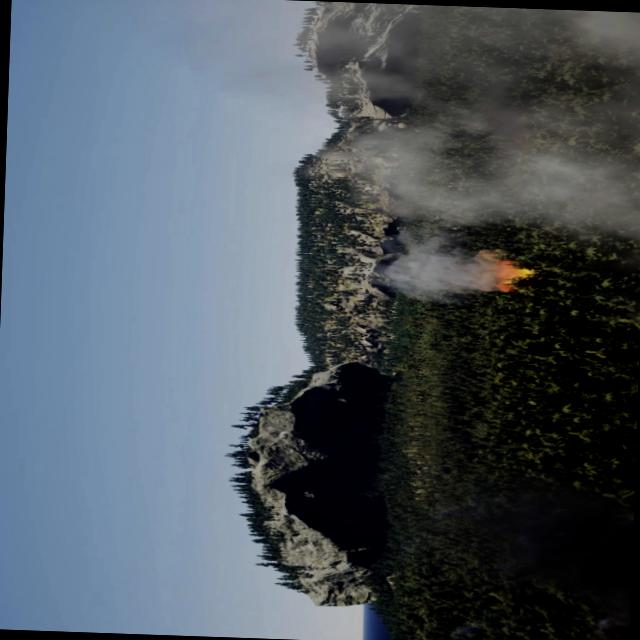fire: (486, 254, 530, 295)
smoke: (182, 0, 640, 256), (454, 476, 628, 620), (380, 235, 524, 302)
